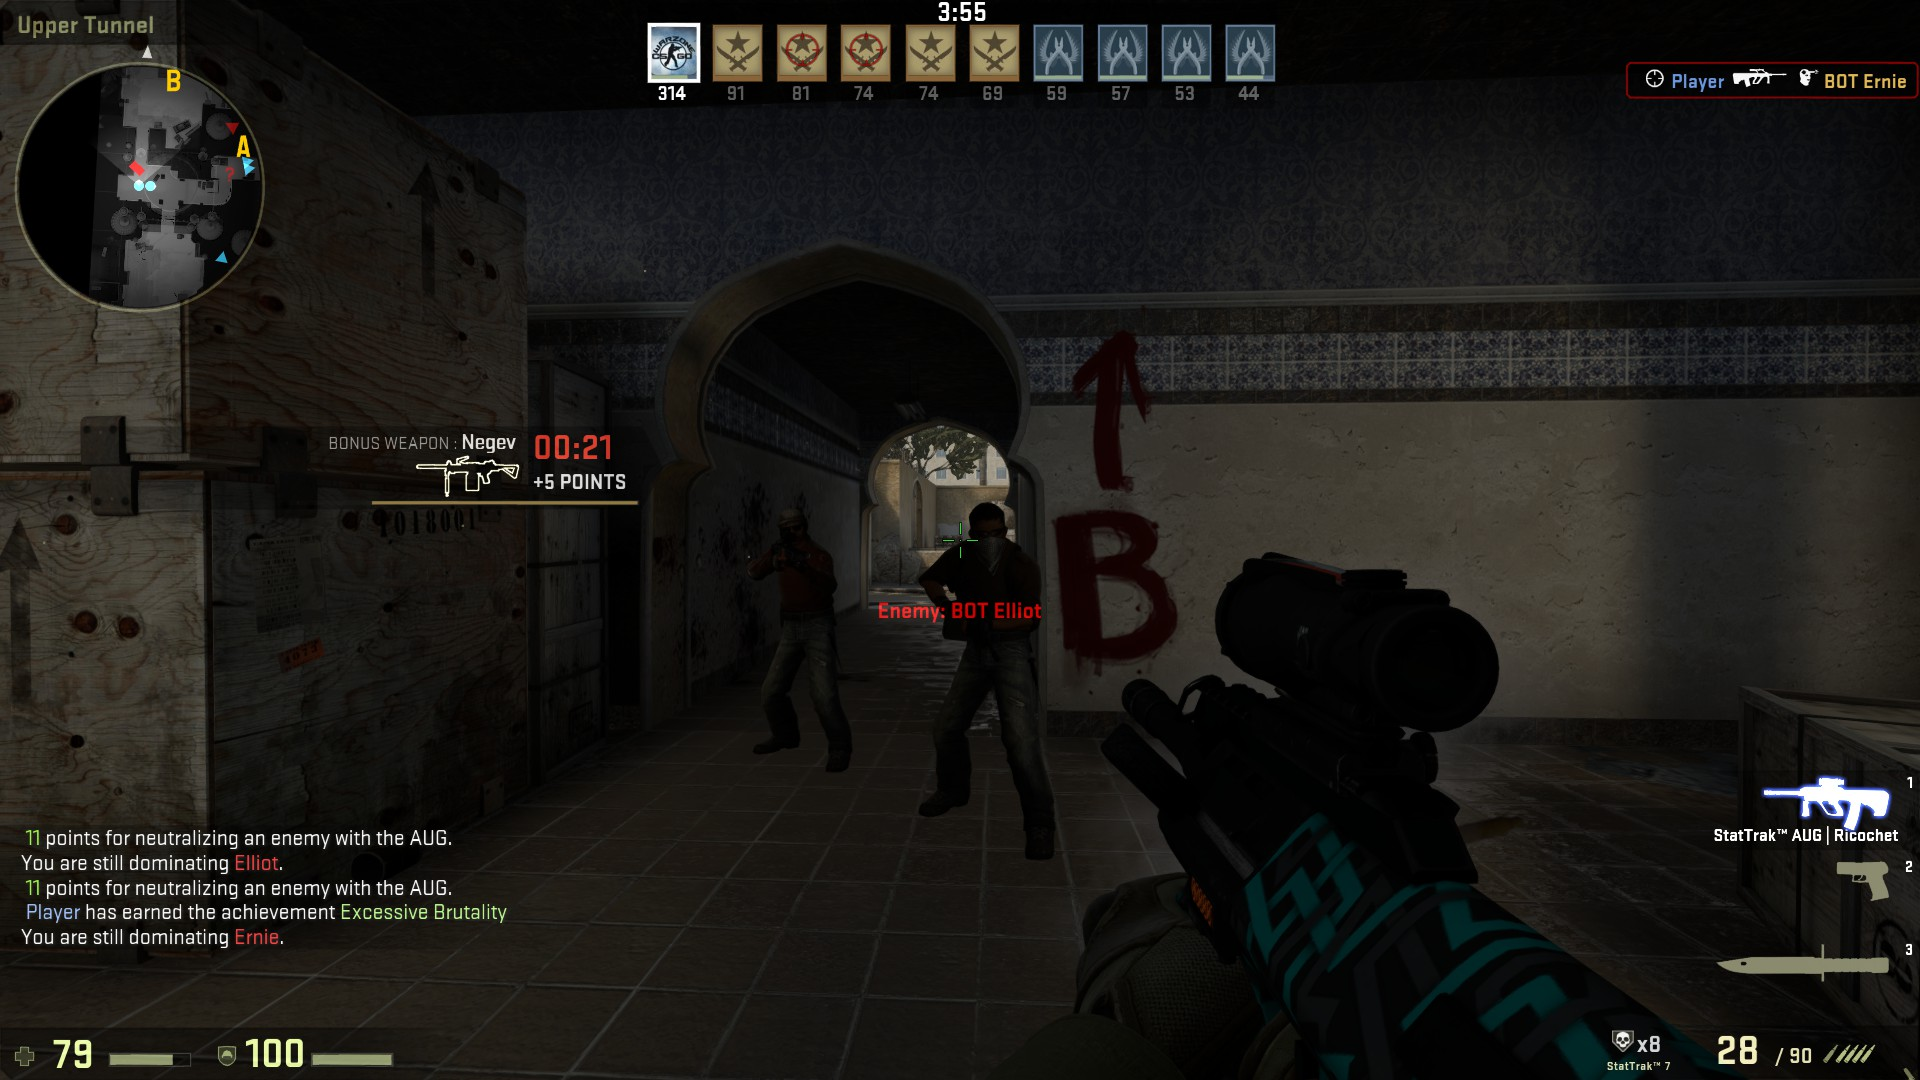t: (924, 500, 1058, 844), (745, 504, 851, 761)
th: (961, 500, 1011, 571), (761, 506, 825, 559)
